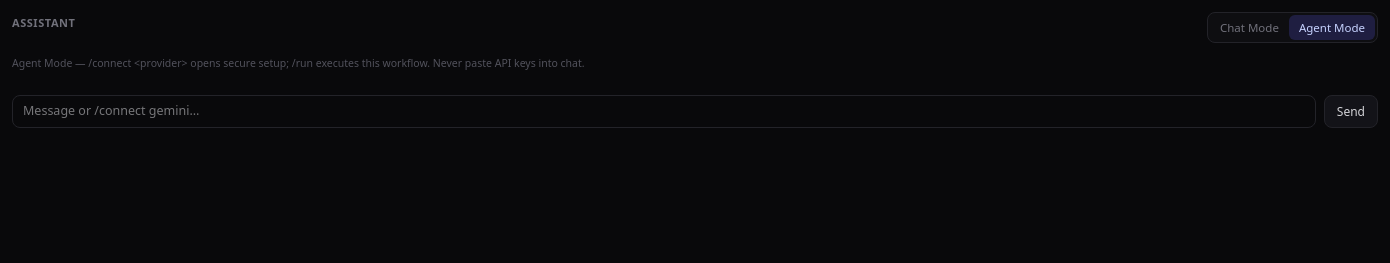
Agent Mode actions › /run executes the workflow and reports the run
This screenshot has width=1390, height=263.
Type "/run" into the field named "Assistant message". click: (664, 112)
box: [12,95,1316,128]
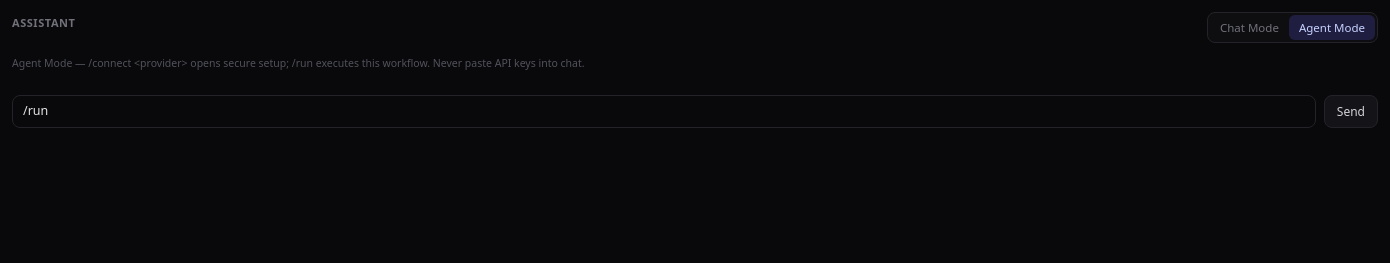
Click the button "Send". click: (1351, 112)
box: [1324,95,1378,128]
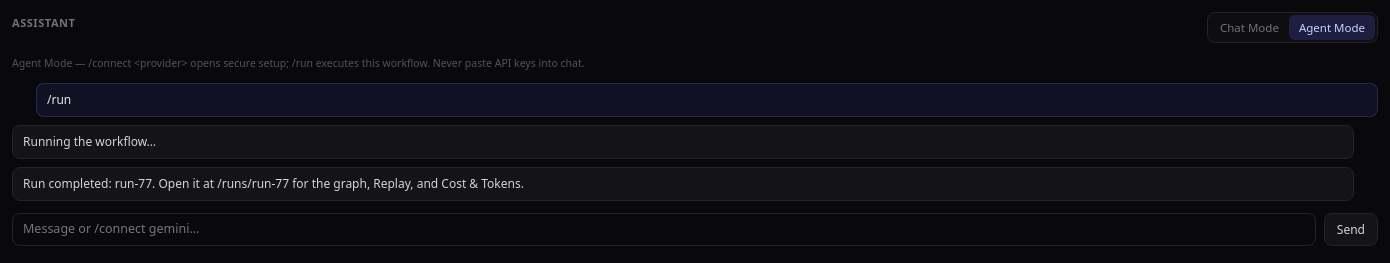
Now the text "Run completed: run-77" is shown, box [23,175,524,192]
